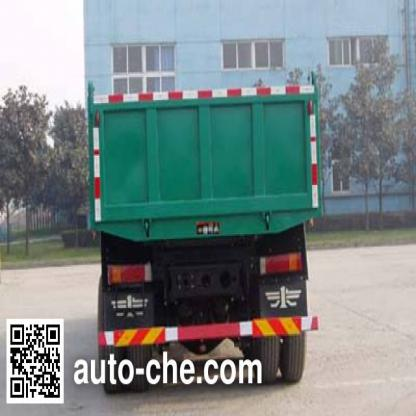normal-truck: (82, 79, 338, 337)
